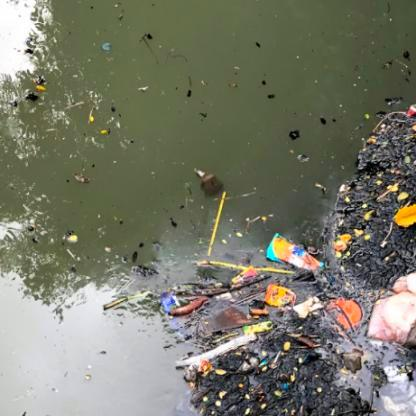Trash: (262, 230, 328, 278)
